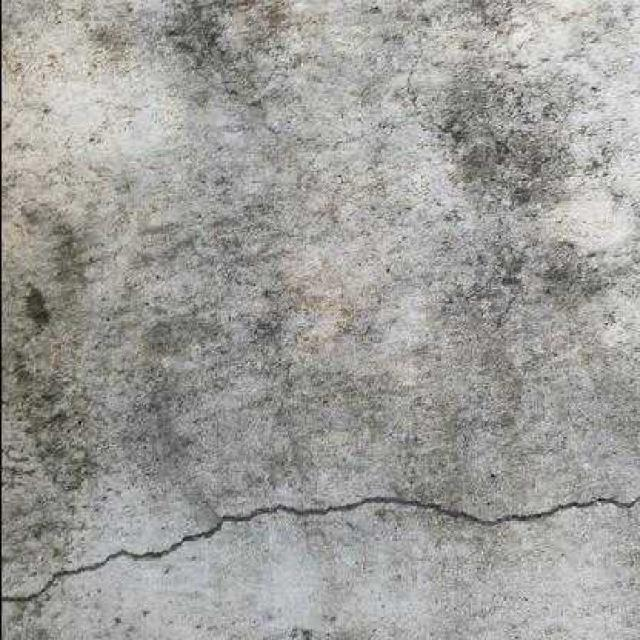D00: (0, 495, 640, 602)
